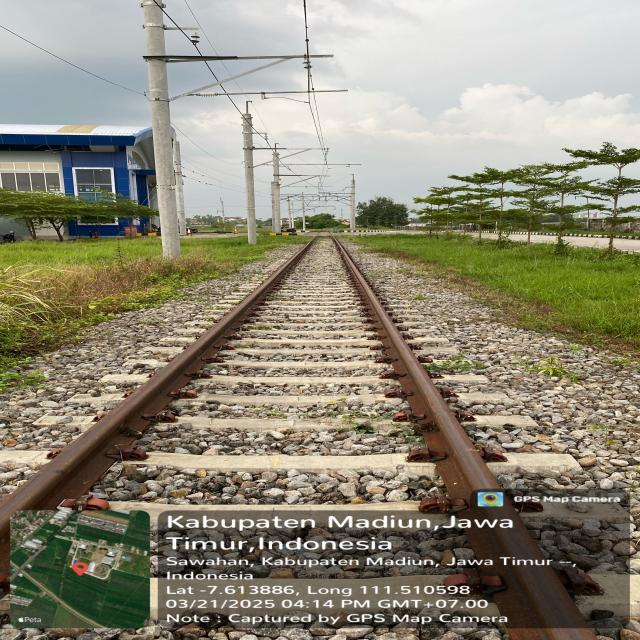rail-detection: (334, 240, 593, 640), (0, 242, 312, 538)
